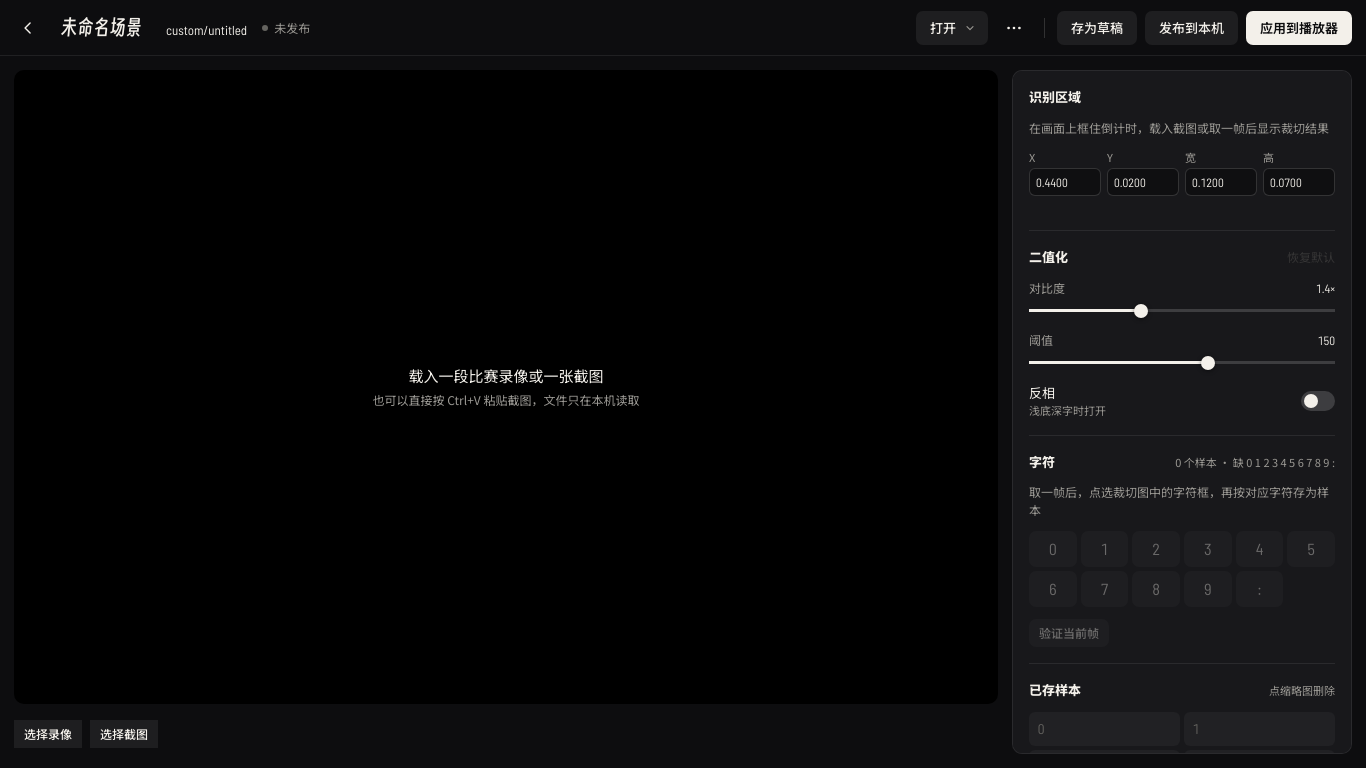
Test: editor saved and published state › does not mark newer edits as saved when an older draft write finishes
Step 1. Click the button "打开" → (952, 28), box [916,10,988,44]
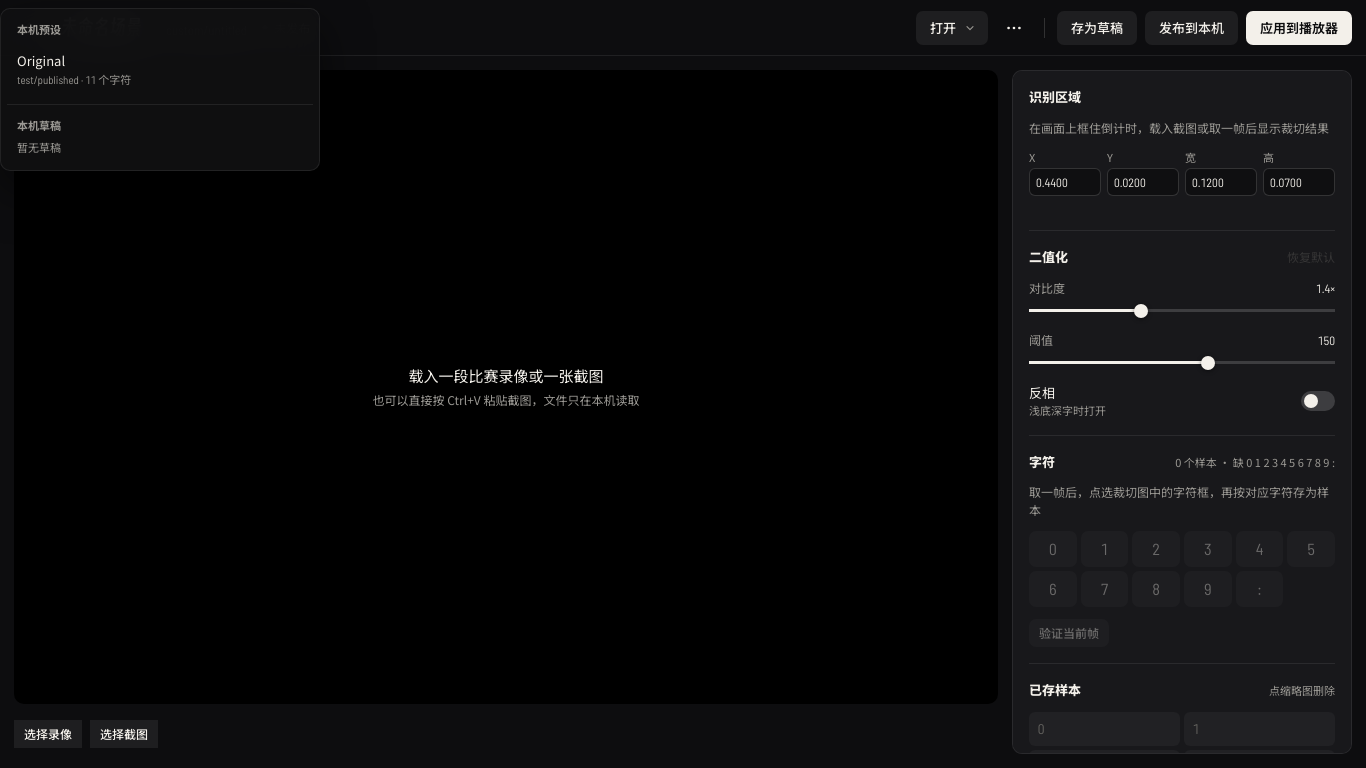
Step 2. Click the button "Original test/published · 11 个字符" → (41, 60), box [7,42,313,98]
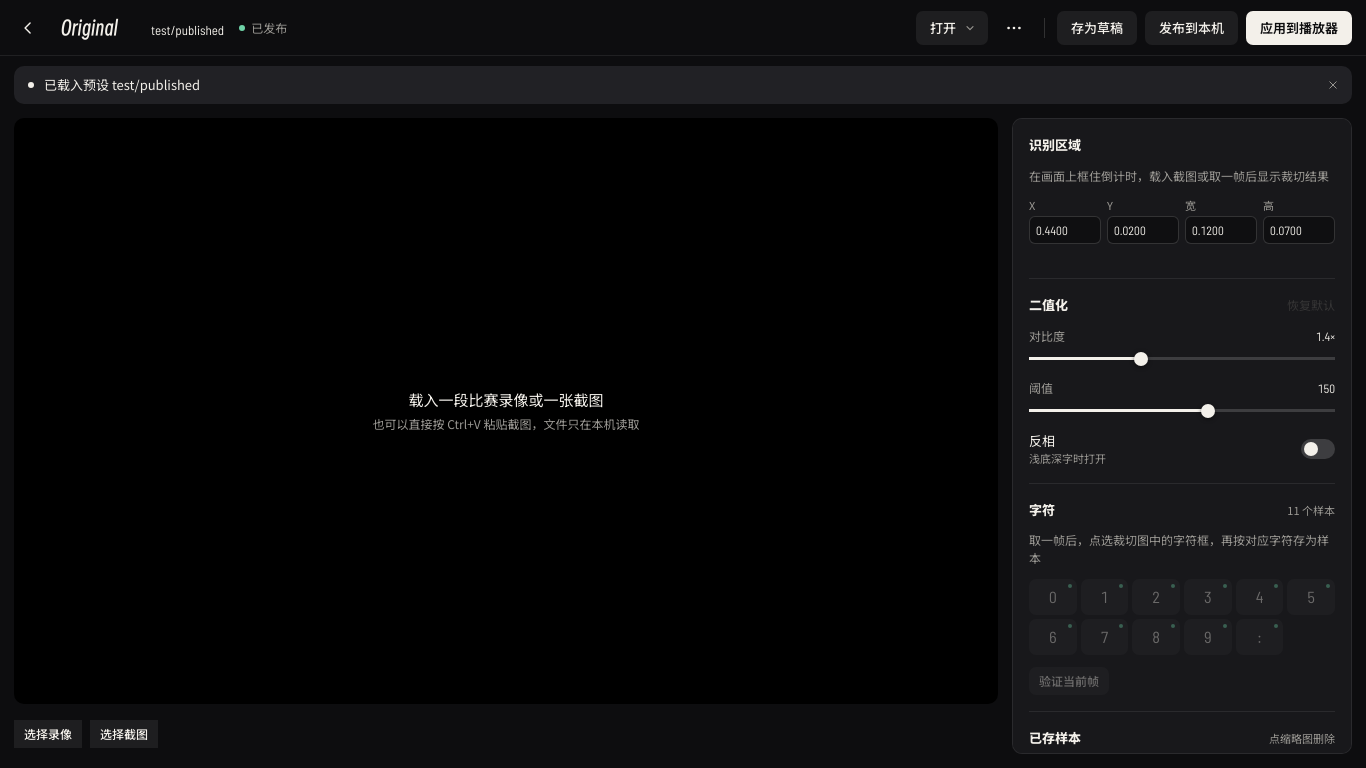
Expected: the field named "名称" holds "Original"
Step 3. Replace the text in the field named "名称" with "Saved draft" → (94, 28), box [54,8,134,46]
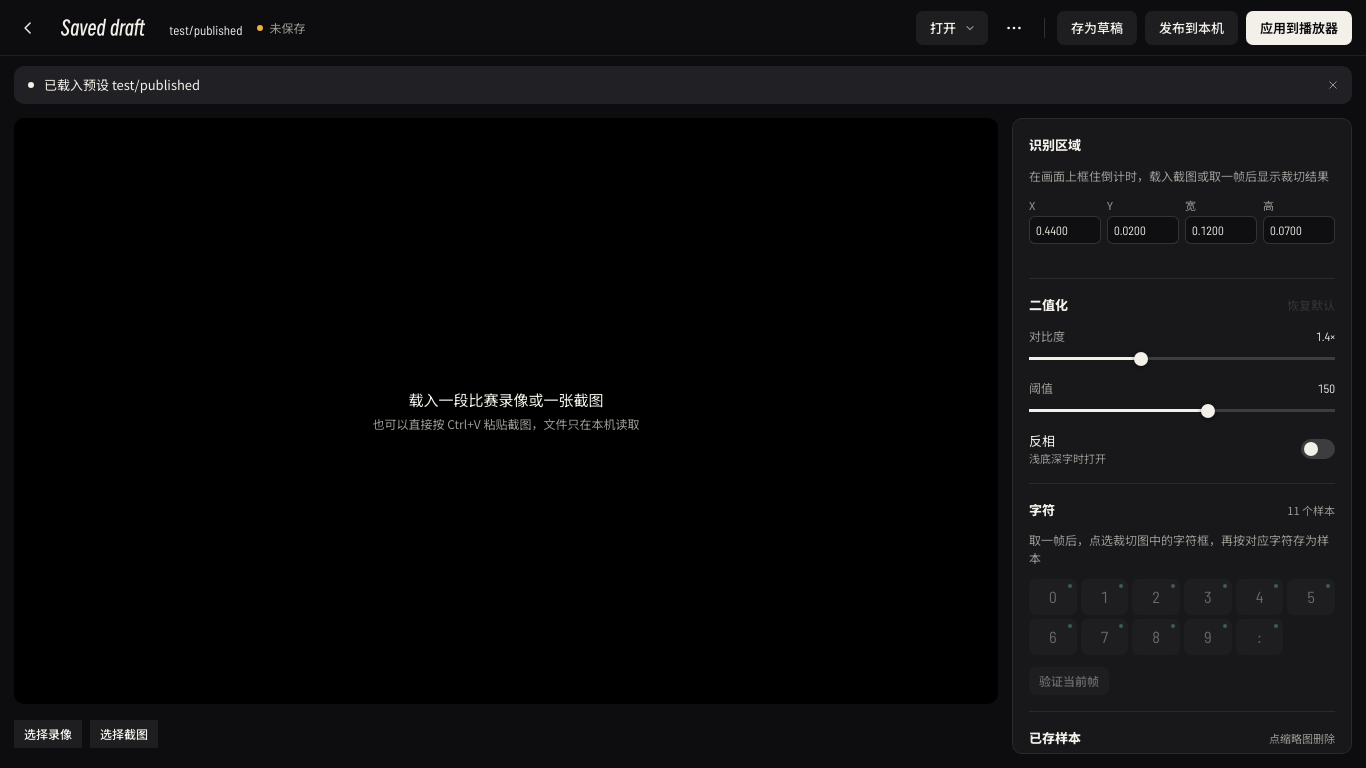
Step 4. Click the button "存为草稿" → (1097, 28), box [1057,10,1137,44]
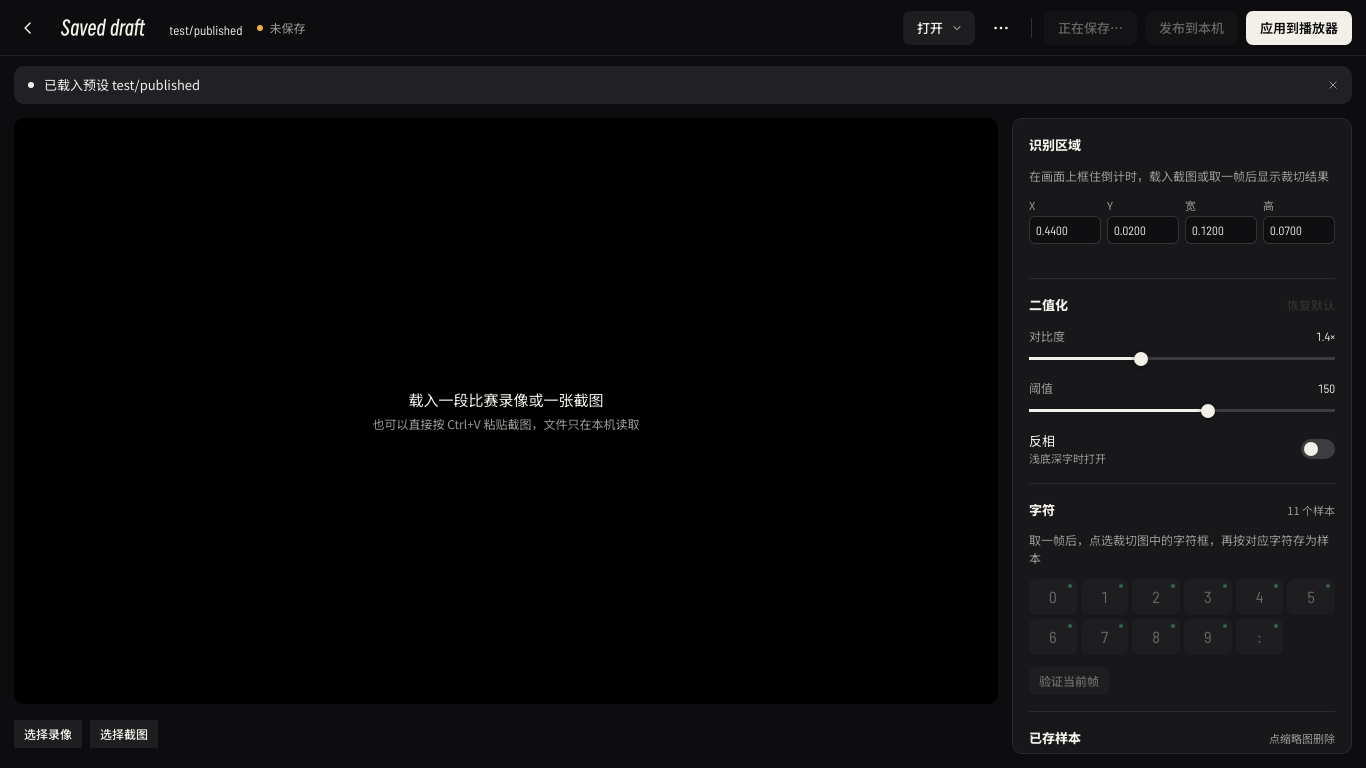
Step 5. Replace the text in the field named "名称" with "Unsaved changes" → (103, 28), box [54,8,152,46]
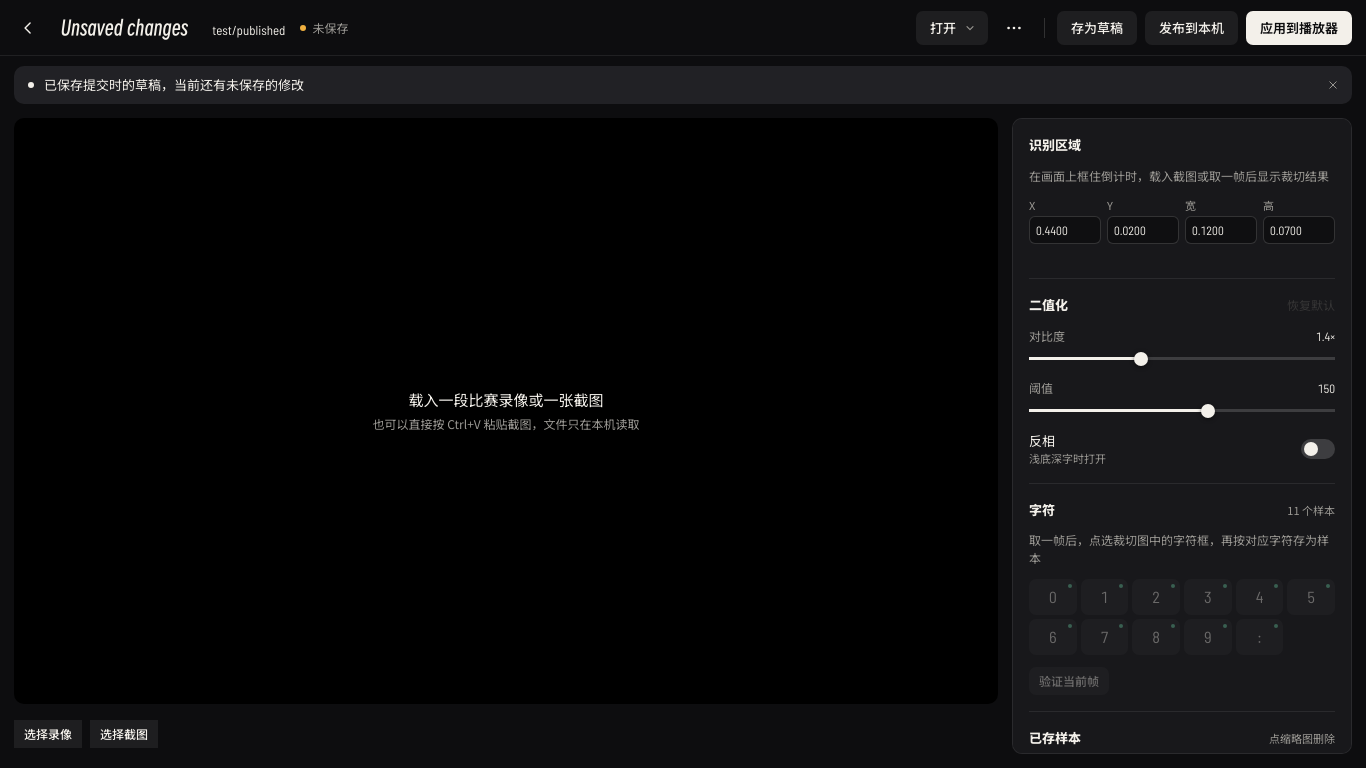
Expected: the header shows "未保存", [312,18,348,36]
Expected: the message shows "当前还有未保存的修改", [44,75,304,94]
